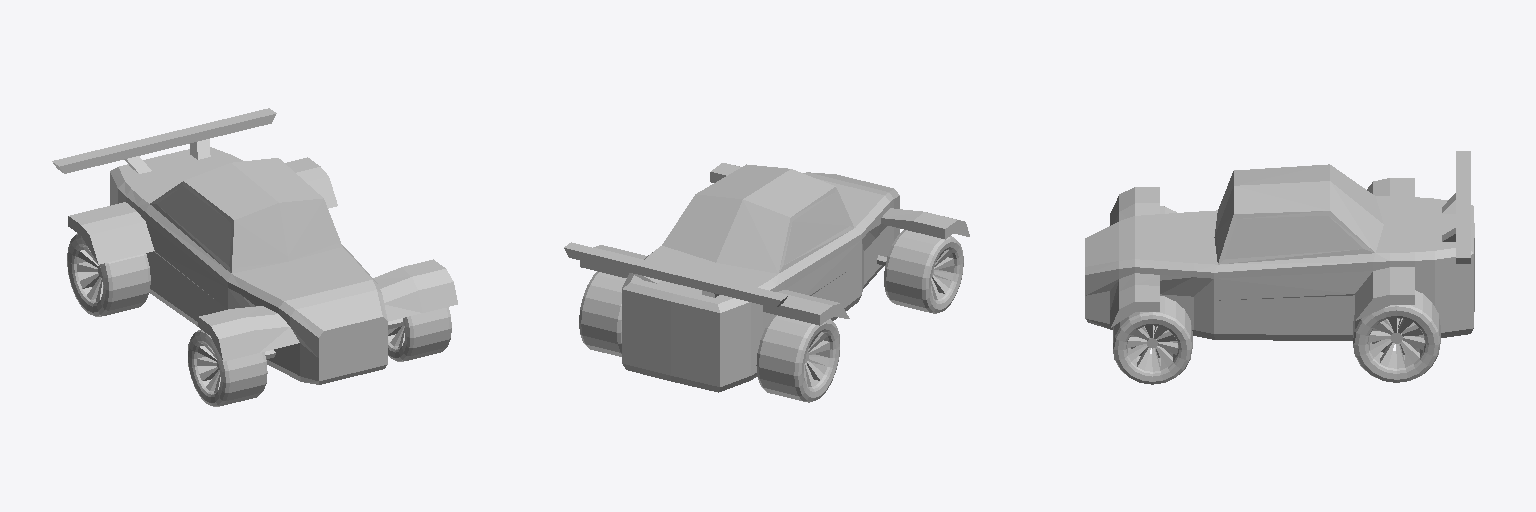
Rendered from CarModel1.obj.
The picture shows the model from 3 angles: view 1: azimuth 30°, elevation 25°; view 2: azimuth 150°, elevation 25°; view 3: azimuth 270°, elevation 25°; orthographic projection.
Visible parts, largest first — view 1: CarPrototype1; view 2: CarPrototype1; view 3: CarPrototype1.
Part boxes in pixels (bbox=[...]): CarPrototype1: bbox=[52, 108, 457, 406]; CarPrototype1: bbox=[564, 163, 969, 402]; CarPrototype1: bbox=[1085, 151, 1474, 384].
Size of the model in its own units: 2.83 by 1.69 by 3.99.